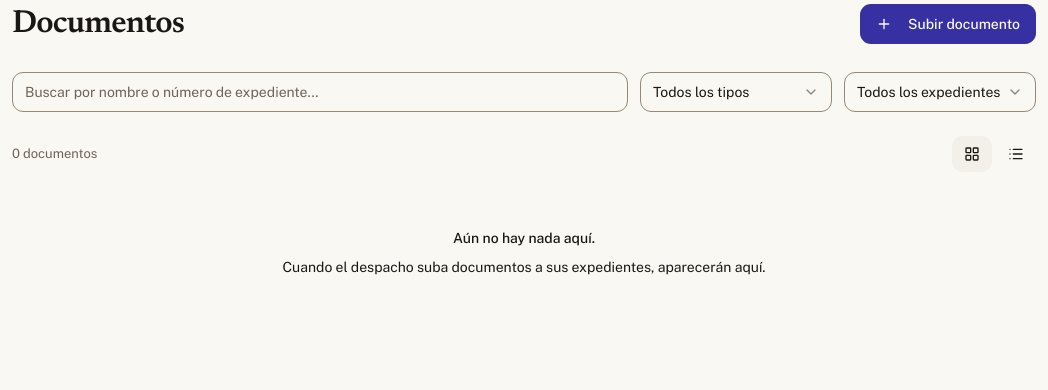
Scenario: FirmDocuments › the filters (T018) › offers a way out when filters empty the list
The image size is (1048, 390).
What coordinates should you click on to do the following:
click the dropdown named "Tipo de documento"
I would click on:
 (736, 92)
Its box is [640, 72, 832, 112].
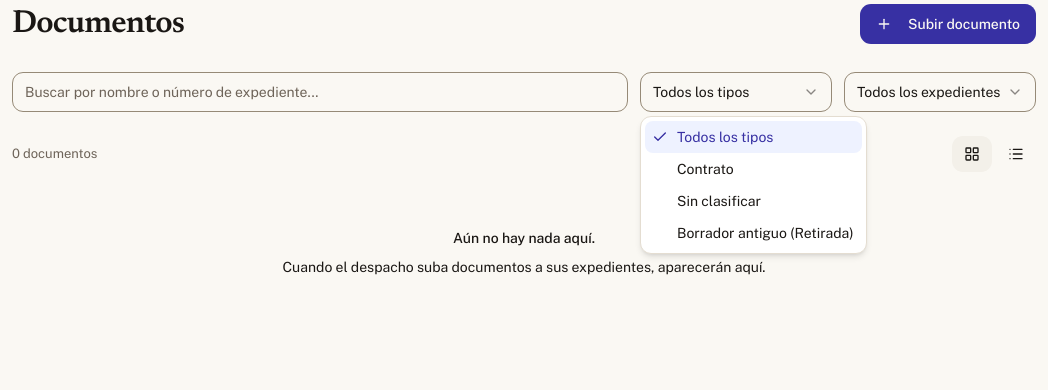
What coordinates should you click on to do the following:
click the option "Contrato"
I would click on:
 (705, 169)
Its box is [677, 161, 734, 177].
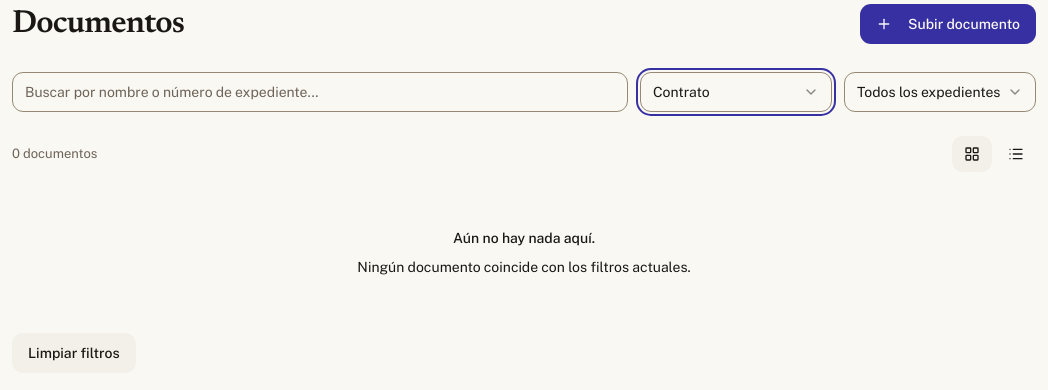
Check: the button "Limpiar filtros" is shown, box [12, 333, 136, 373]
